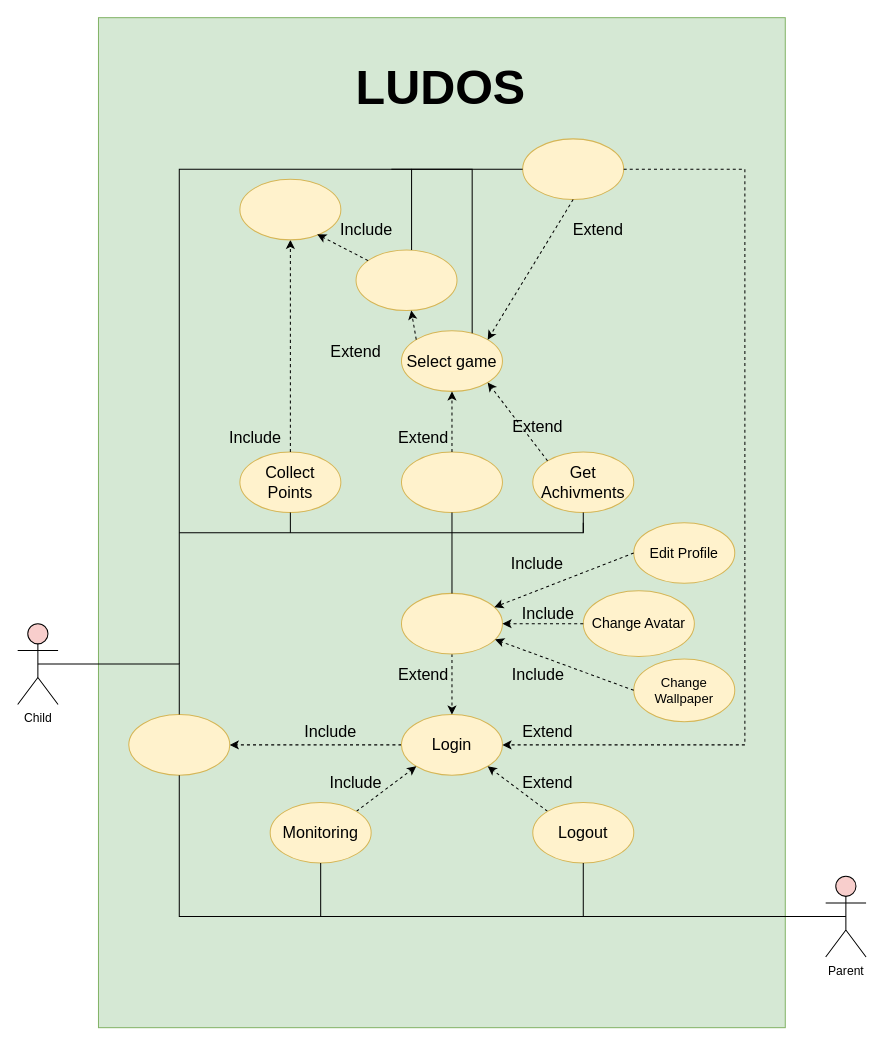
This 884x1045 diagram has some shape labels left out. Each missing label, with the centre of its shape:
"evaluate score" belongs at [290,209].
"Manage Profile" belongs at [451,623].
"Registration" belongs at [179,744].
"Select level" belongs at [406,280].
"Spend Points" belongs at [451,482].
"Take quizzes" belongs at [573,168].
